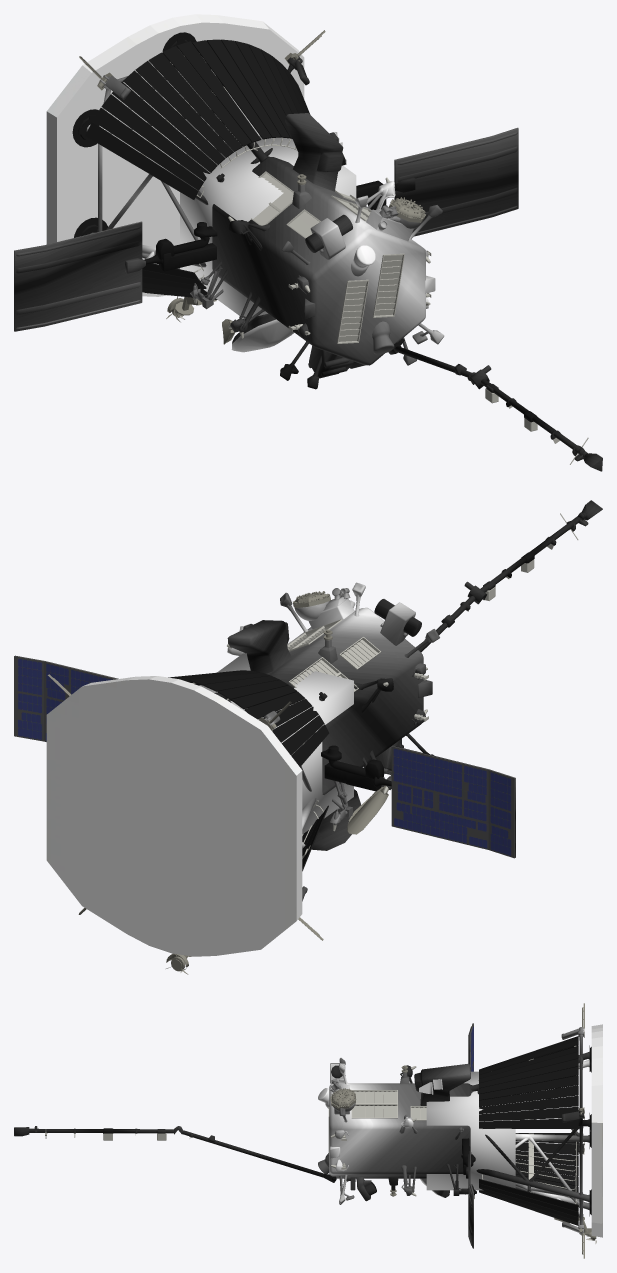
The model's file is parker-solar-probe.glb.
The picture shows the model from 3 angles, top to bottom: view 1: azimuth 30°, elevation 25°; view 2: azimuth 150°, elevation 25°; view 3: azimuth 270°, elevation 25°; orthographic projection. The views are drawn at different scales.
Parts seen in each view (by area): view 1: BUS, CoolingSystem, Instruments, _root, CoolingSystem_frame, solarArray_arms, HGA, magnetometers; view 2: Instruments, BUS, CoolingSystem, _root, CoolingSystem_frame, solarArray_arms; view 3: BUS, CoolingSystem, _root, Instruments, CoolingSystem_frame.
Boxes of the visible parts, x1,y1,x2,y2 form: BUS: [14, 49, 602, 471]; CoolingSystem: [72, 32, 310, 299]; Instruments: [14, 14, 517, 344]; _root: [180, 136, 356, 318]; CoolingSystem_frame: [103, 56, 404, 343]; solarArray_arms: [144, 180, 396, 271]; HGA: [232, 319, 294, 352]; magnetometers: [193, 177, 588, 464]; Instruments: [14, 591, 514, 974]; BUS: [15, 500, 602, 901]; CoolingSystem: [168, 670, 329, 871]; _root: [199, 653, 353, 834]; CoolingSystem_frame: [180, 619, 380, 972]; solarArray_arms: [321, 745, 391, 791]; BUS: [14, 1023, 589, 1248]; CoolingSystem: [479, 1036, 591, 1225]; _root: [426, 1071, 515, 1190]; Instruments: [330, 1003, 602, 1258]; CoolingSystem_frame: [328, 1045, 592, 1240].
Bounding box in the file's own units: 4.51 × 2.53 × 6.61.
Materials: 6 (2 with a texture image).
